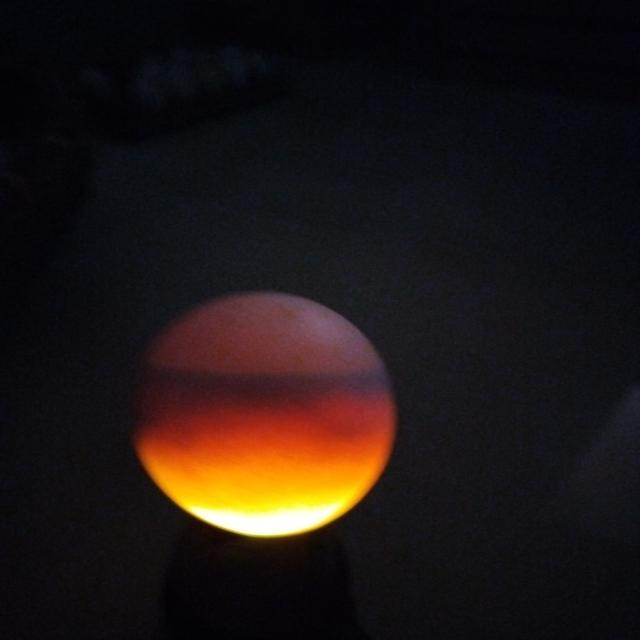Area Infectada: (129, 364, 394, 437)
